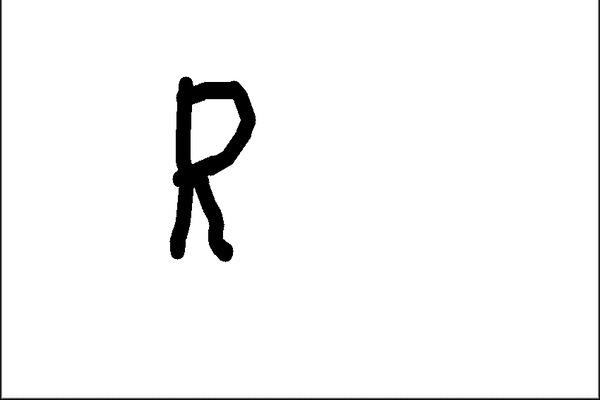R: (156, 63, 270, 286)
